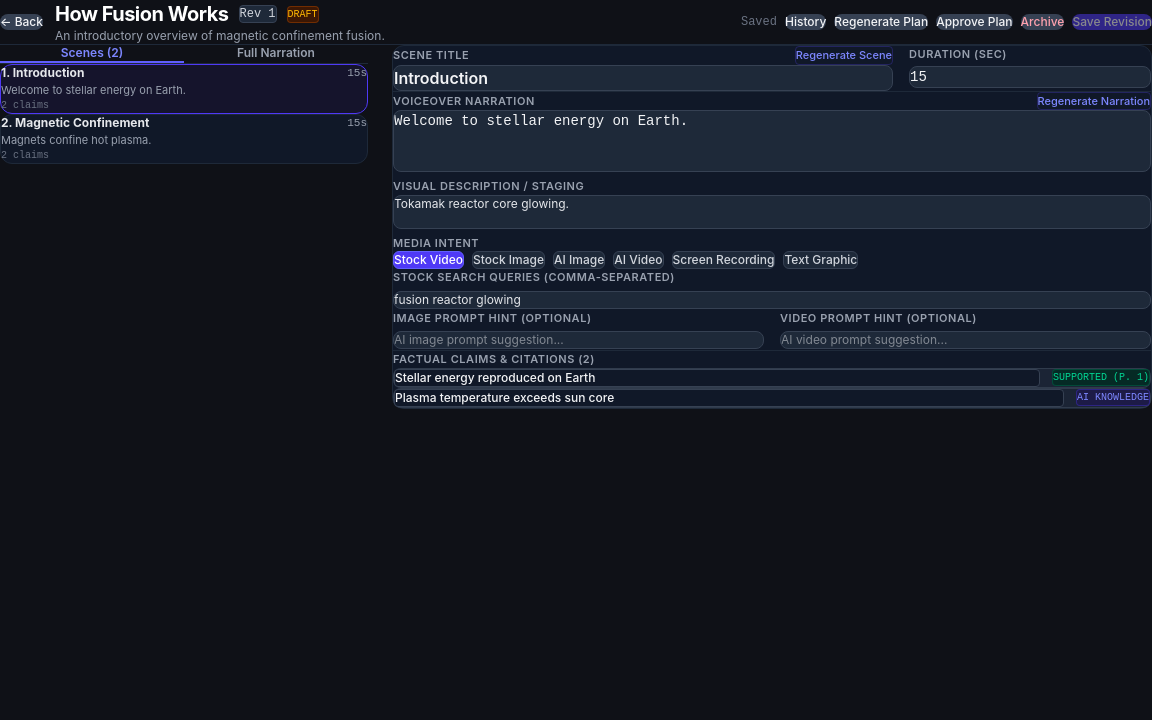
Test: ContentPlanEditor Component › displays error message when approveContentPlan rejects
Expected: the heading "How Fusion Works" is shown, [55,0,228,28]
Click the button "Approve Plan" at (974,22), box [936,14,1013,30]
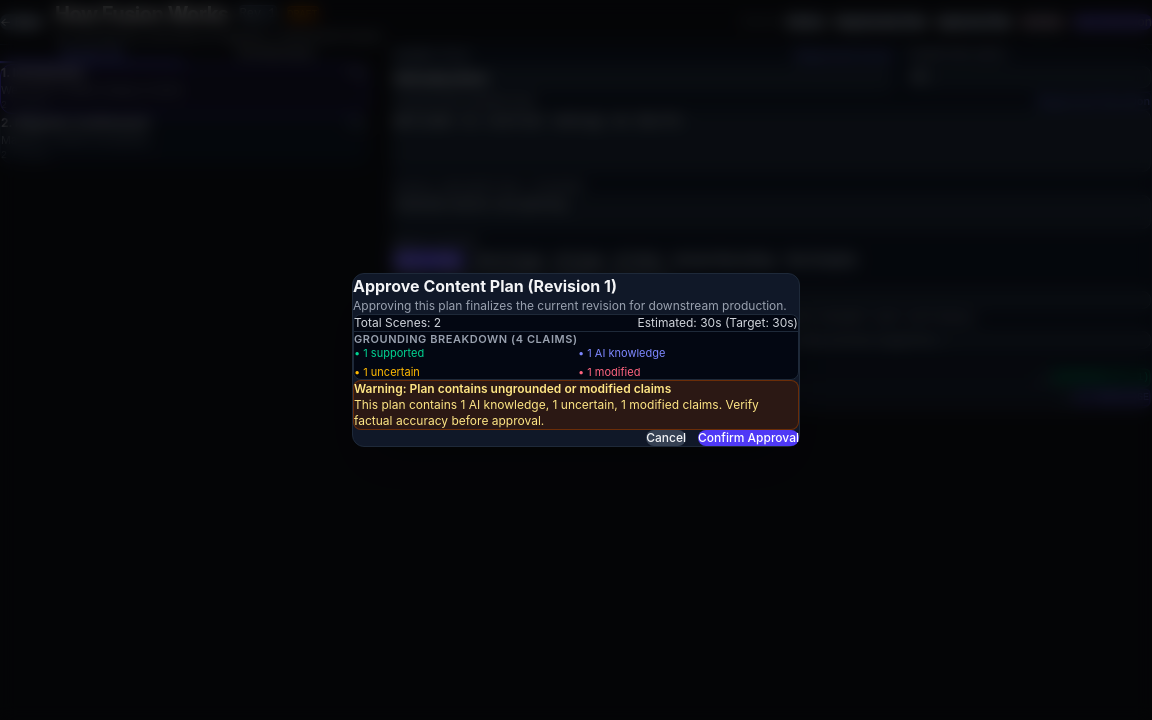
Click the button "Confirm Approval" at (748,438), box [698,430,799,446]
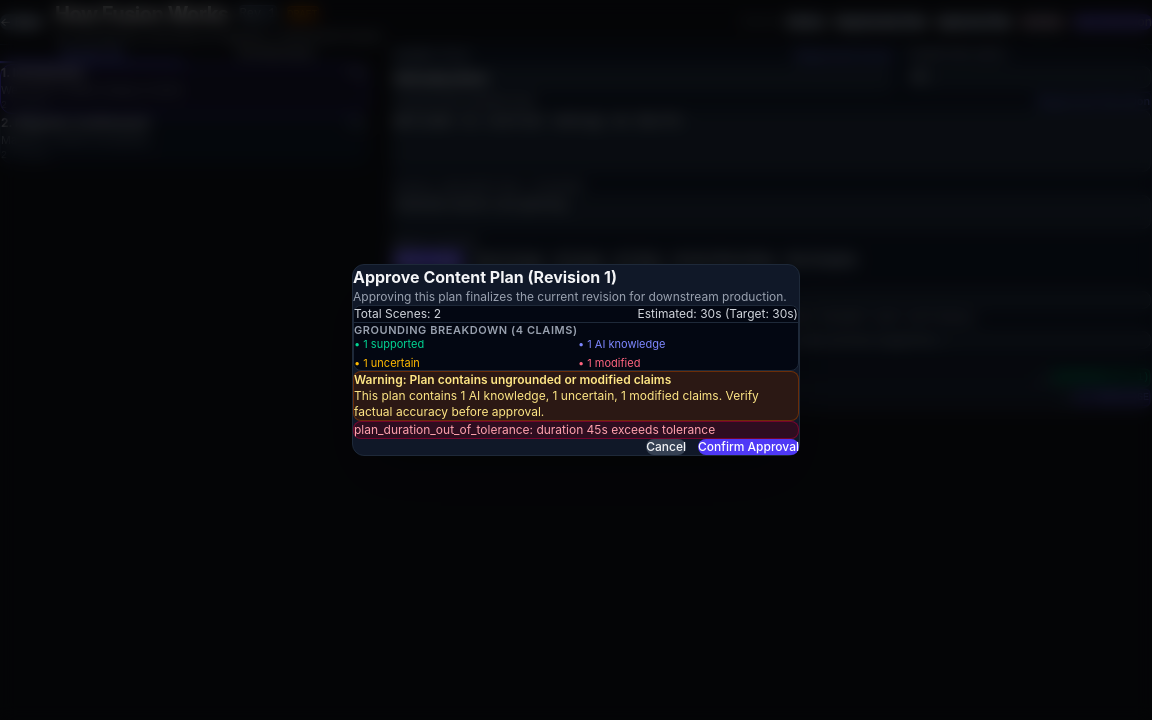
Expected: the text "plan_duration_out_of_tolerance" is shown, [354,422,715,438]
